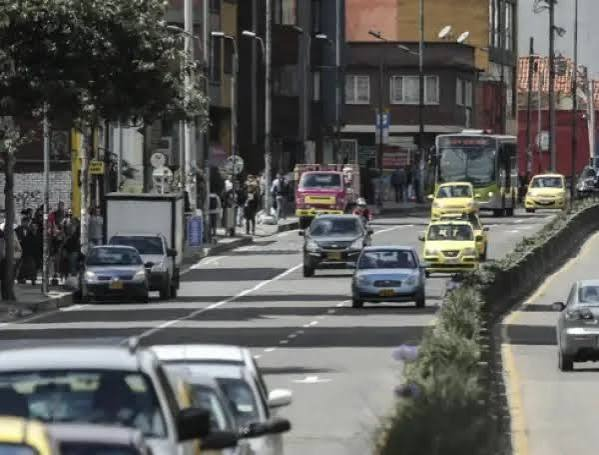car: (7, 145, 599, 441), (1, 331, 288, 455), (139, 343, 287, 455), (92, 187, 187, 290), (428, 131, 517, 215), (98, 194, 205, 262), (79, 243, 164, 304), (351, 244, 425, 308), (355, 138, 419, 209), (303, 214, 368, 271), (558, 291, 599, 370), (503, 301, 568, 349), (294, 166, 350, 219), (420, 220, 480, 269), (293, 167, 350, 218), (523, 173, 568, 210)
